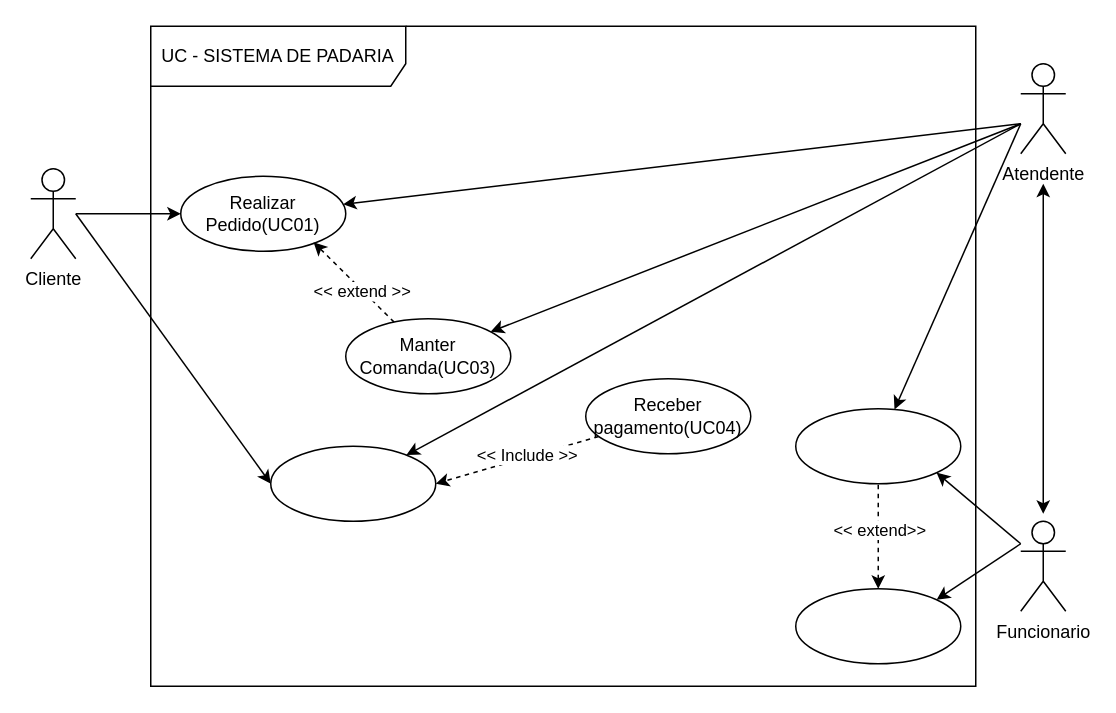
The diagram is 1116 pixels wide and 713 high, and some of its shapes have lost their labels. Each missing label, with the box of its shape:
Cadastrar material(UC06): (794, 587, 961, 664)
Consultar estoque(UC05): (794, 407, 961, 484)
Finalizar pedido(UC02): (269, 445, 436, 521)
